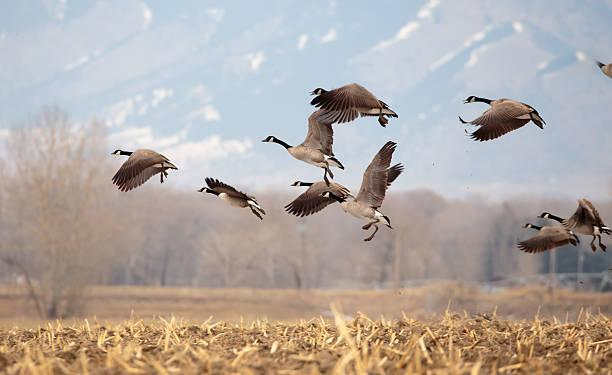Canadian-Goose: (321, 141, 406, 242), (263, 115, 346, 183), (538, 198, 610, 255), (459, 94, 544, 142), (309, 82, 395, 128), (109, 148, 176, 192), (197, 177, 262, 218), (285, 177, 350, 211), (517, 222, 578, 253)
